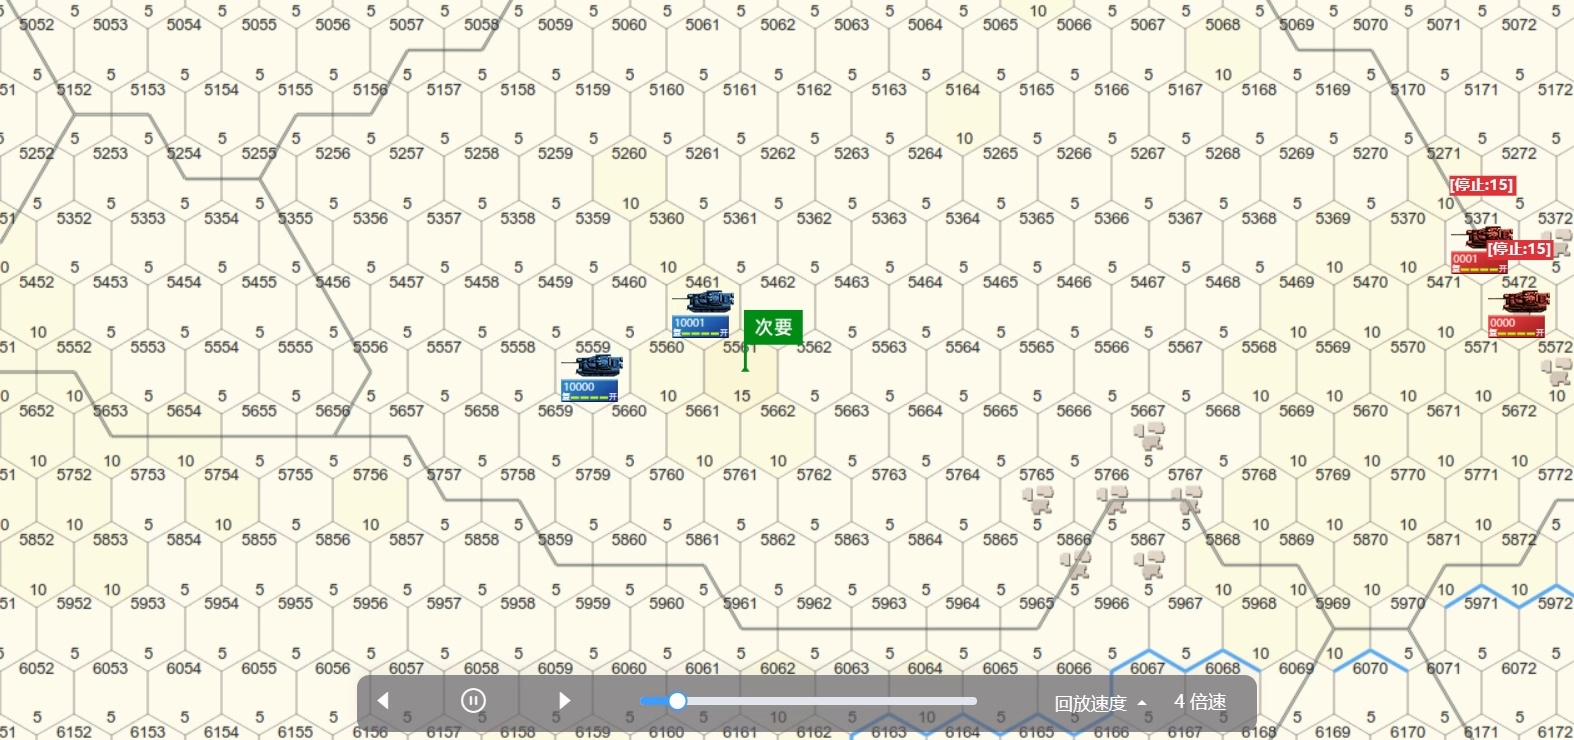blue_tank: (662, 294, 739, 346), (557, 354, 630, 401)
red_tank: (1448, 227, 1522, 276), (1489, 292, 1554, 347)
